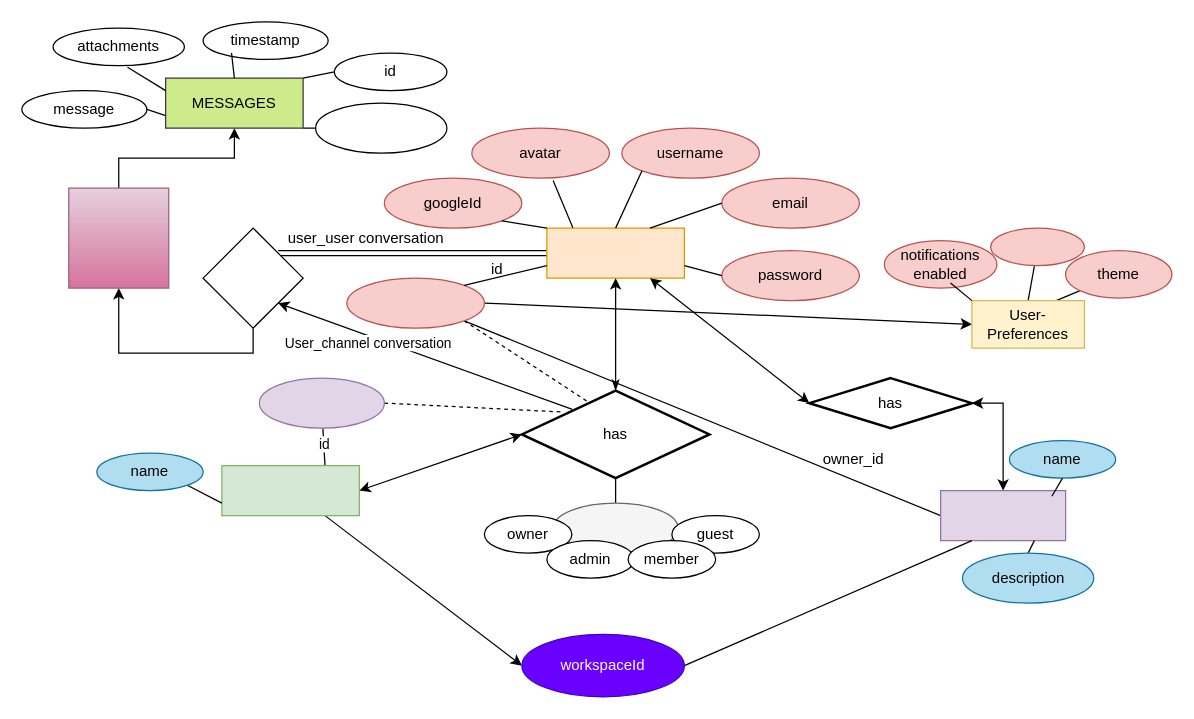
This 1194x719 diagram has some shape labels left out. The shapes that lost their labels are listed below. From the top down, each one's centre as x and y in pixels, then its label:
At point 380,127: "edited".
At point 118,237: "conversation".
At point 615,252: "USERS".
At point 1036,246: "time_zone".
At point 252,277: "DM or not?".
At point 415,302: "user_id".
At point 321,402: "channel_id".
At point 290,490: "Channels".
At point 615,527: "role".
At point 1002,515: "Workspaces".
